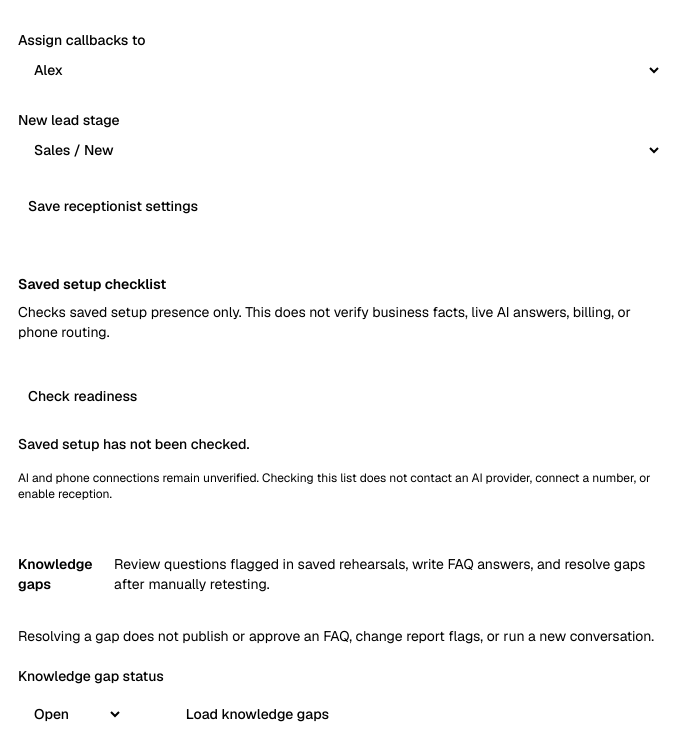
Test: readiness checklist settings integration › clears previous results after edits and saves and requires a new explicit check
(page scrolled)
Step 1. Click the button "Check readiness" → (83, 396), box [18,374,147,418]
(page scrolled)
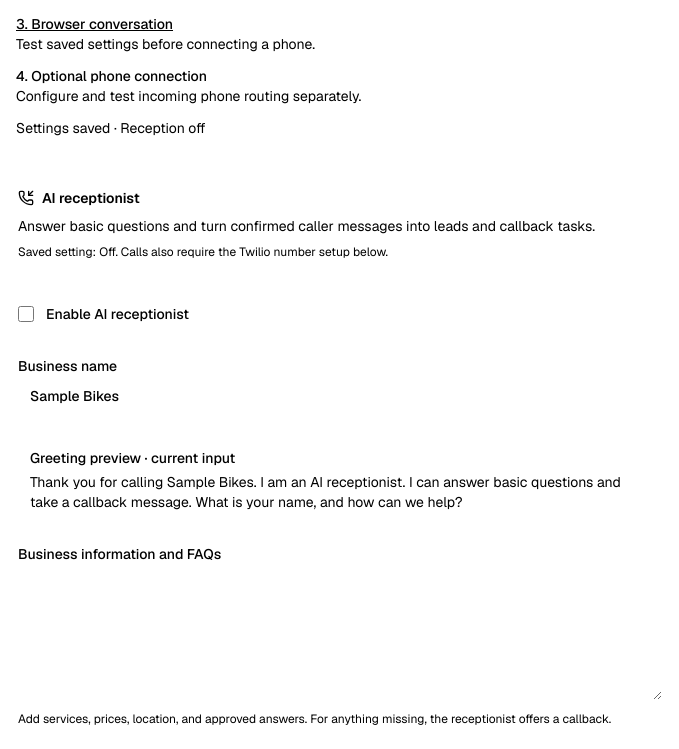
Step 2. Replace the text in the field labelled "Business name" with "Updated Bikes" → (340, 396), box [18,376,662,416]
(page scrolled)
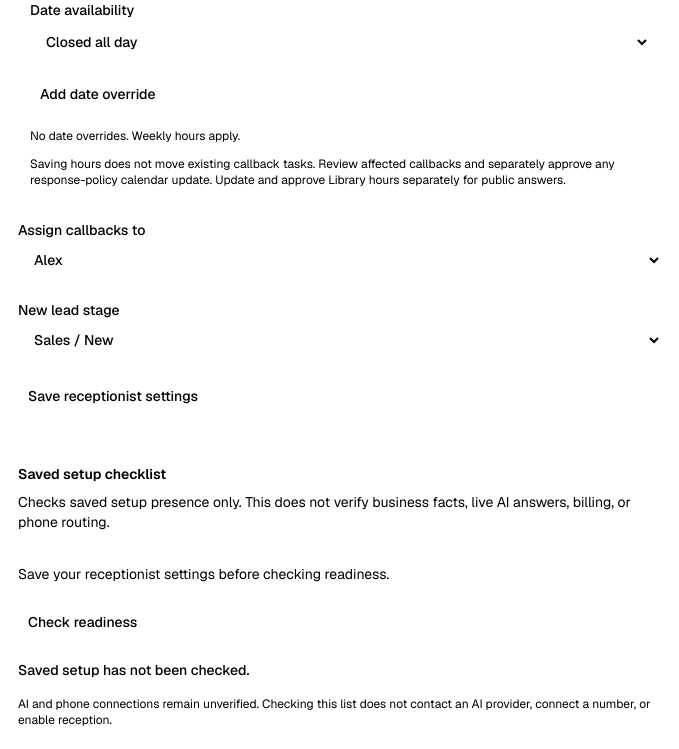
Expected: the text "5 of 5 saved setup checks complete" is not shown
Expected: the button "Check readiness" is disabled, [18,600,147,644]
Step 3. Click the button "Save receptionist settings" → (113, 396), box [18,380,208,412]
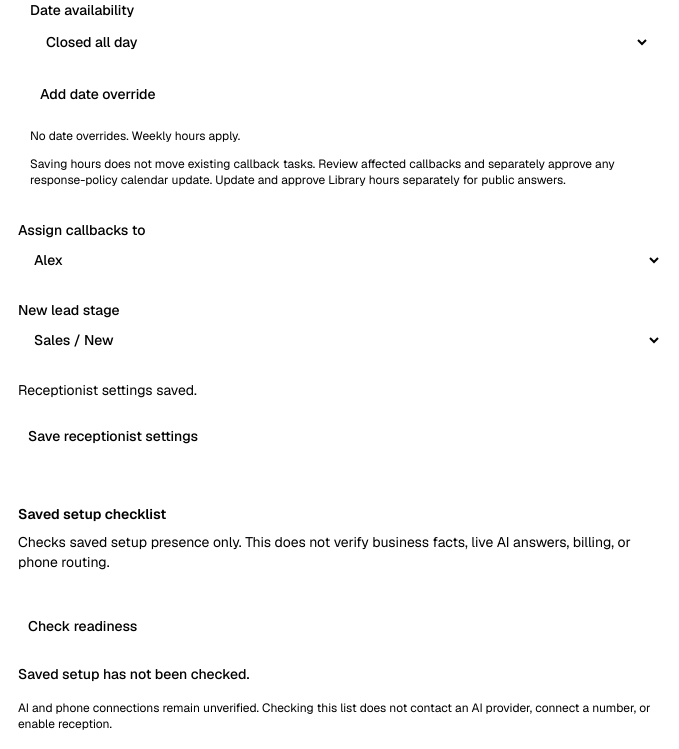
Expected: the text "5 of 5 saved setup checks complete" is not shown
Expected: the text "Saved setup has not been checked." is shown, [18,665,249,683]
Expected: the button "Check readiness" is enabled
Step 4. Click the button "Check readiness" → (83, 626), box [18,604,147,648]
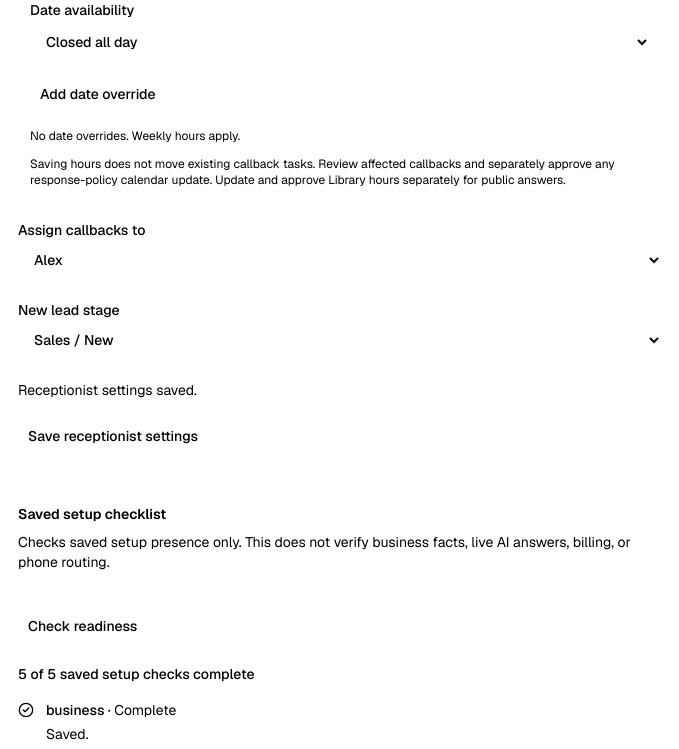
Expected: the text "5 of 5 saved setup checks complete" is shown, [18,665,255,683]
